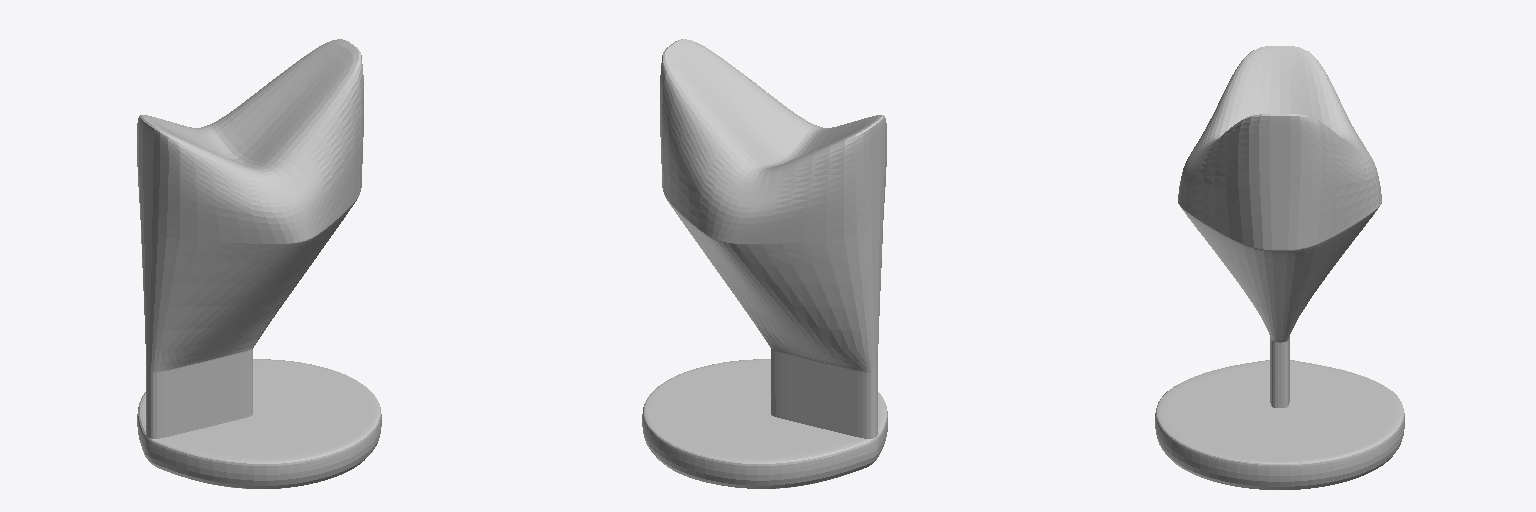
Rendered from pawn_muscovite.obj.
3 views of the same model, side by side, from view 1: azimuth 30°, elevation 25°; view 2: azimuth 150°, elevation 25°; view 3: azimuth 270°, elevation 25° (orthographic).
Visible parts, largest first — view 1: piece003; view 2: piece003; view 3: piece003.
Part boxes in pixels (x1,y1,x2,y2): piece003: (137,39,381,488); piece003: (642,39,887,488); piece003: (1155,46,1404,489).
Bounding box in the file's own units: 18.67 × 30.83 × 18.53.